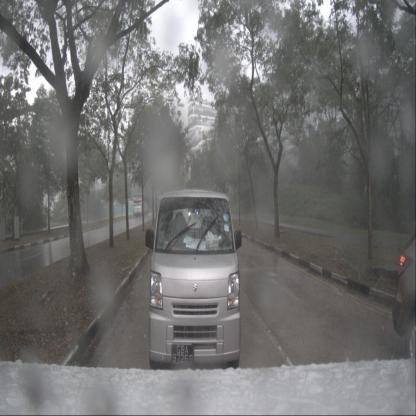vehicle-bus-rigid: (133, 194, 149, 218)
vehicle-car: (148, 190, 241, 370)
